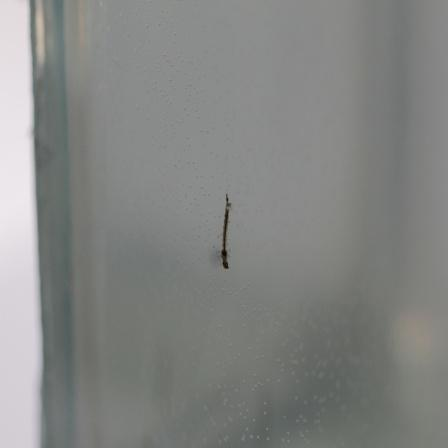Jentik-Nyamuk: (213, 189, 238, 273)
